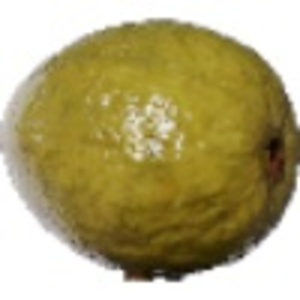goiaba: (4, 19, 296, 284)
